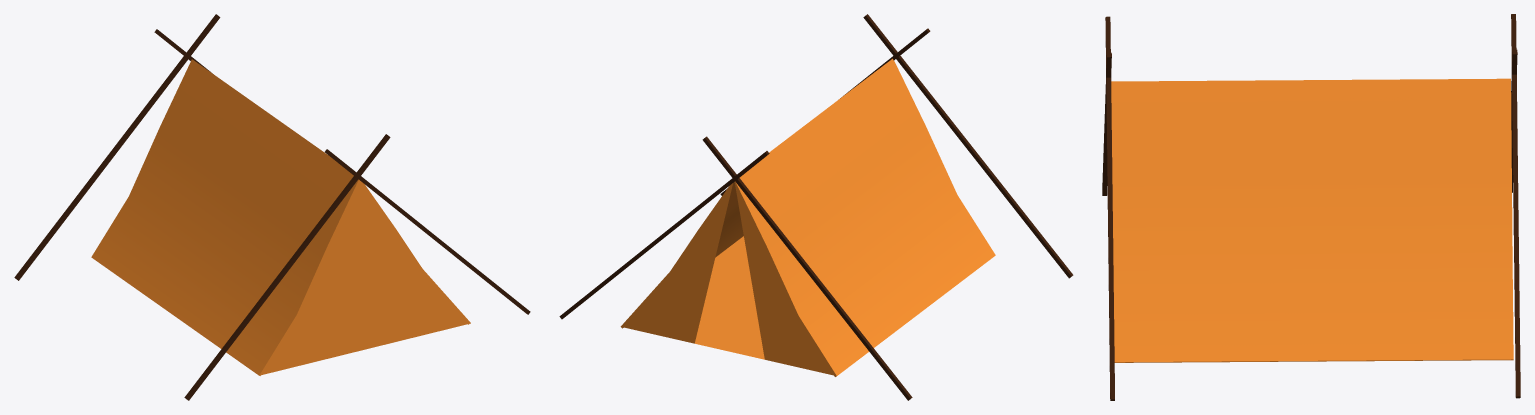
Rendered from tent.fbx.
3 renders of one model, left to right at view 1: azimuth 30°, elevation 25°; view 2: azimuth 150°, elevation 25°; view 3: azimuth 270°, elevation 25°, orthographic. The views are drawn at different scales.
Visible parts, largest first — view 1: tent.002; view 2: tent.002; view 3: tent.002.
Part boxes in pixels (left/top/right/bottom): tent.002: left=14, top=14, right=530, bottom=400; tent.002: left=559, top=14, right=1073, bottom=400; tent.002: left=1102, top=14, right=1520, bottom=400.
Size of the model in its own units: 112 by 65.07 by 93.59.
